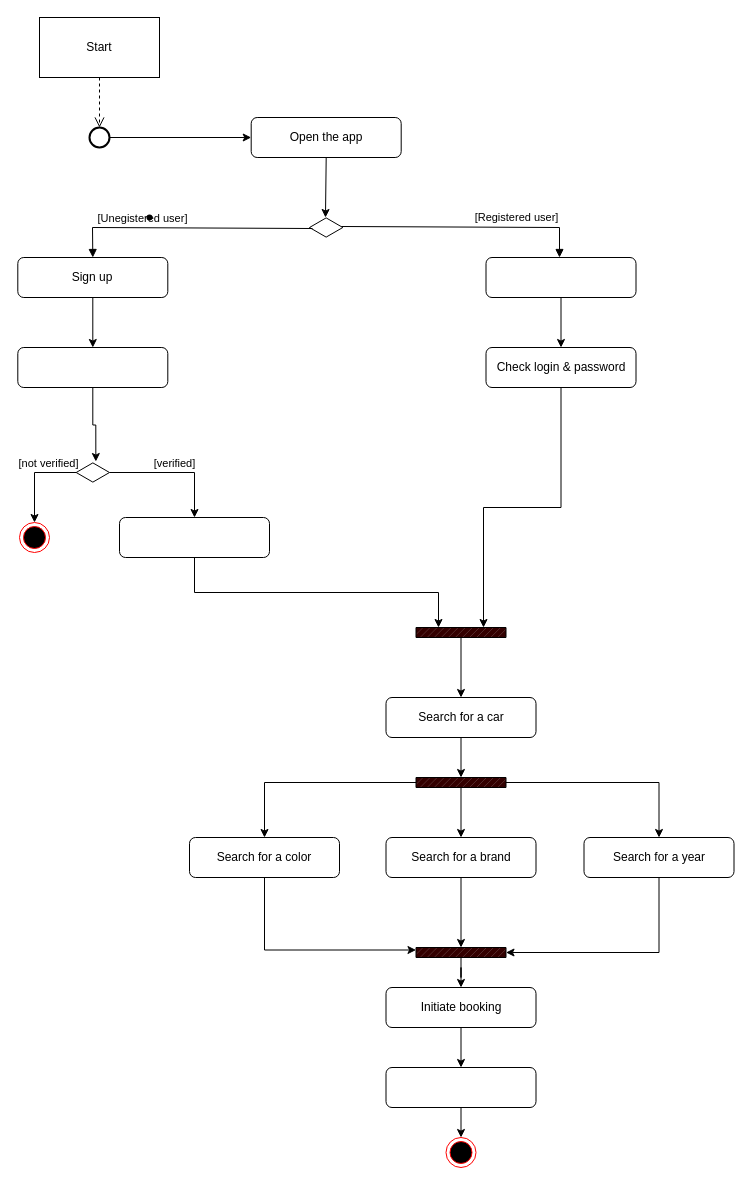
This 752x1185 diagram has some shape labels left out. Each missing label, with the centre of its shape:
"Confirm booking" belongs at [460,1087].
"Create usser account" belongs at [194,537].
"Log In" belongs at [560,277].
"Verify driving documents" belongs at [92,367].
